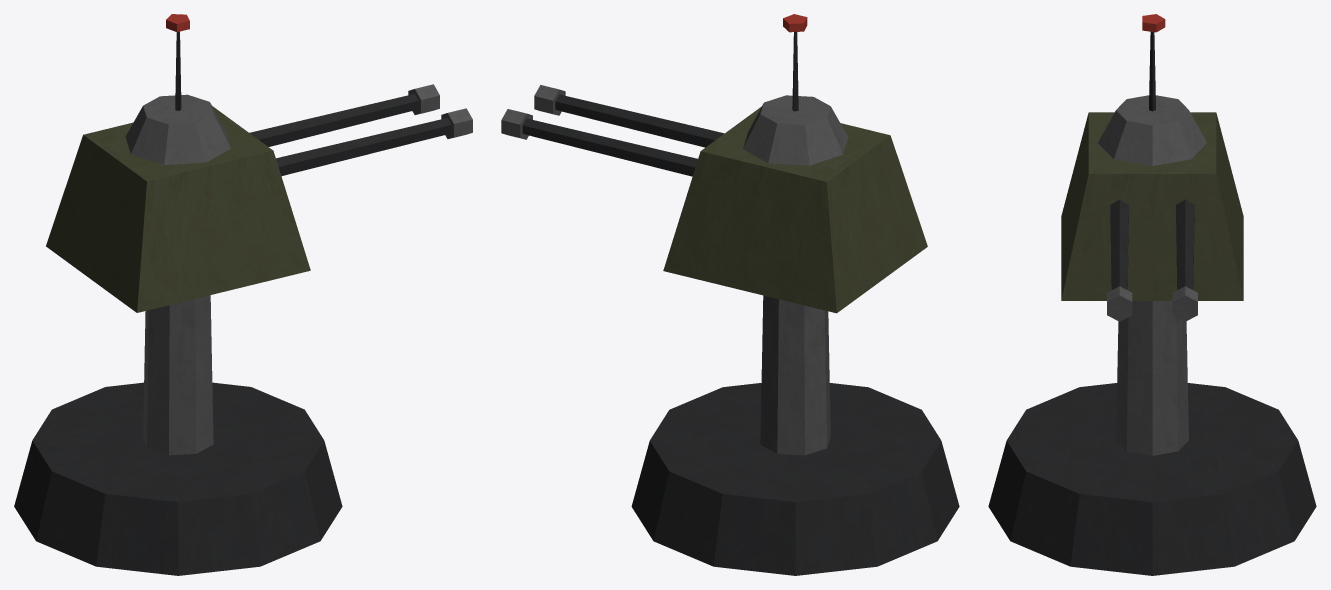
The model's file is turret_01.glb.
3 views of the same model, side by side, from view 1: azimuth 30°, elevation 25°; view 2: azimuth 150°, elevation 25°; view 3: azimuth 270°, elevation 25° (orthographic).
Visible parts, largest first — view 1: turret_01; view 2: turret_01; view 3: turret_01.
Part boxes in pixels (x1,y1,x2,y2): turret_01: (14, 14, 472, 575); turret_01: (501, 14, 959, 575); turret_01: (988, 14, 1316, 575).
Bounding box in the file's own units: 2.62 × 2.95 × 1.8.
Materials: 4 (4 with a texture image).
